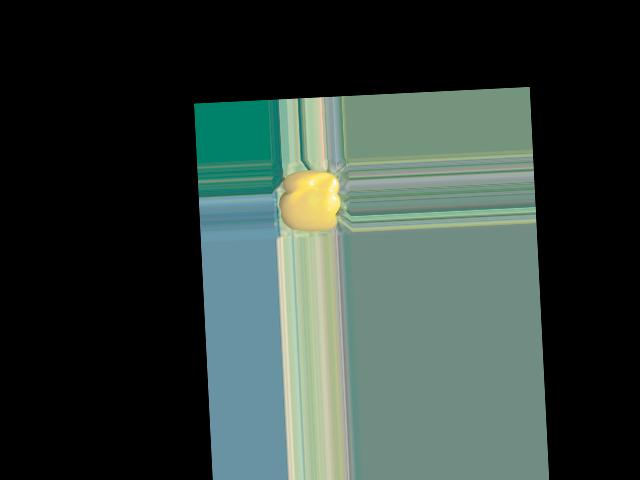bell_pepper: (276, 163, 347, 236)
